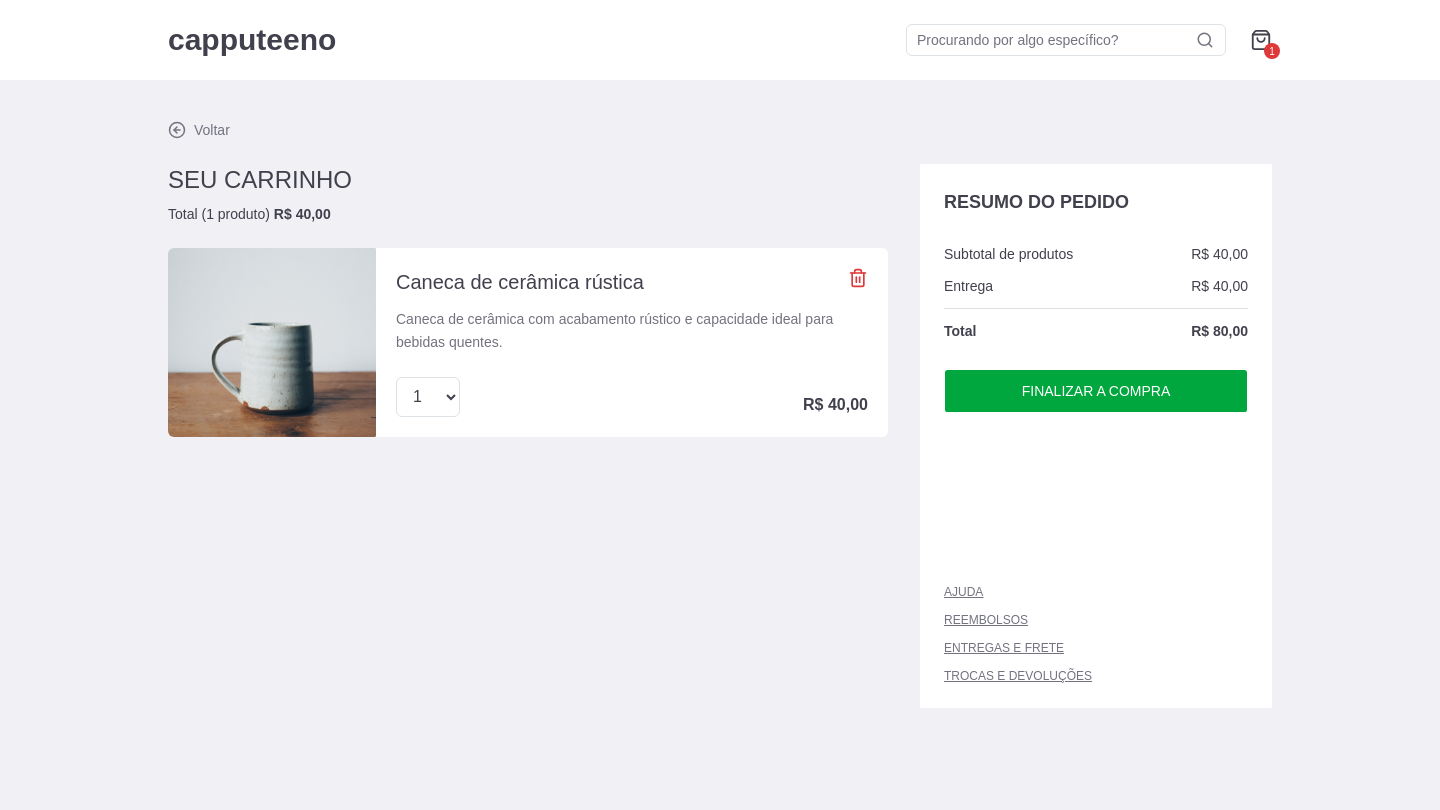
Cart › should checkout and clear the cart
Click the button "Finalizar a compra": click(1096, 391) [944,369,1248,413]
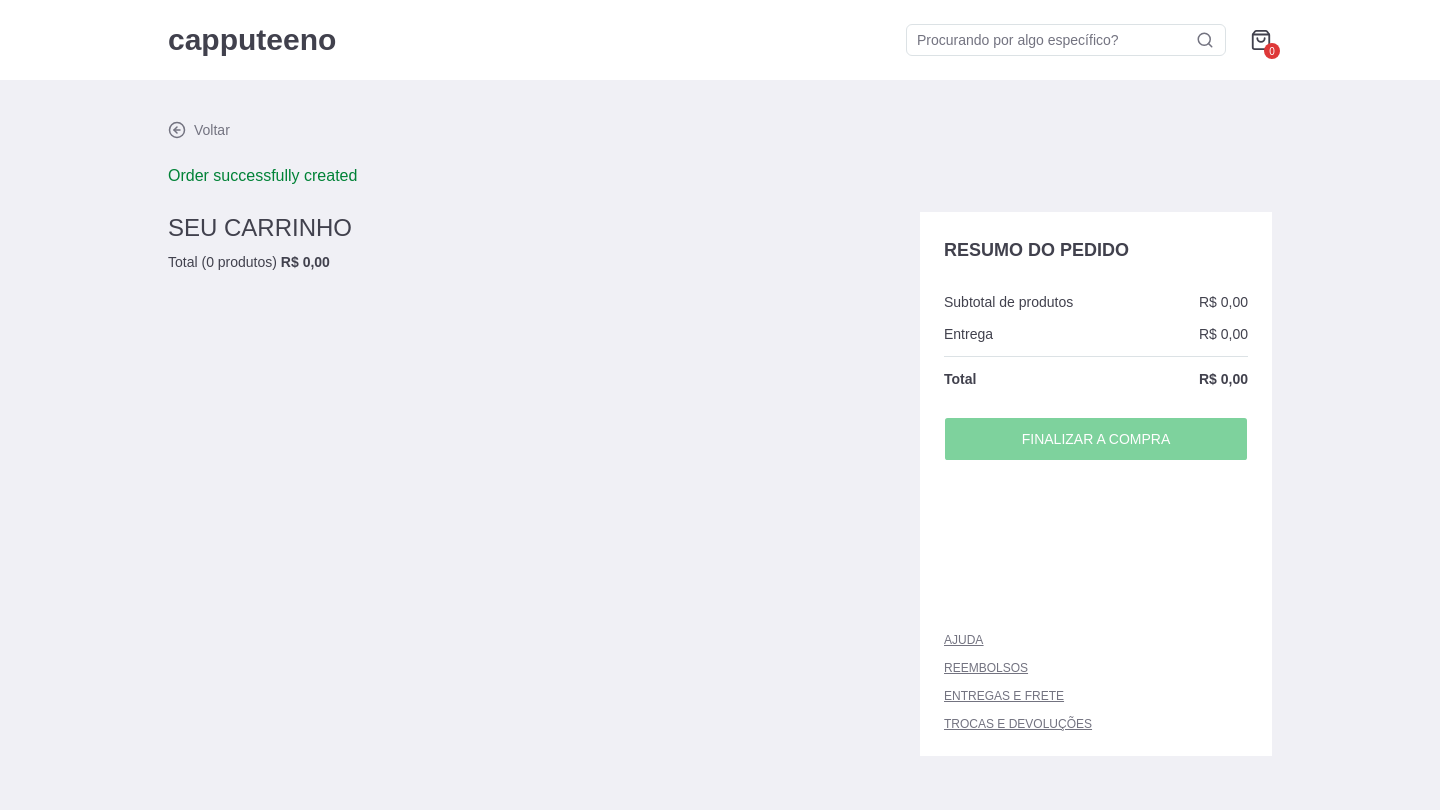
expect the message reads "Order successfully created": met, box [168,167,357,184]
expect the heading "Caneca de cerâmica rústica" is gone: met
